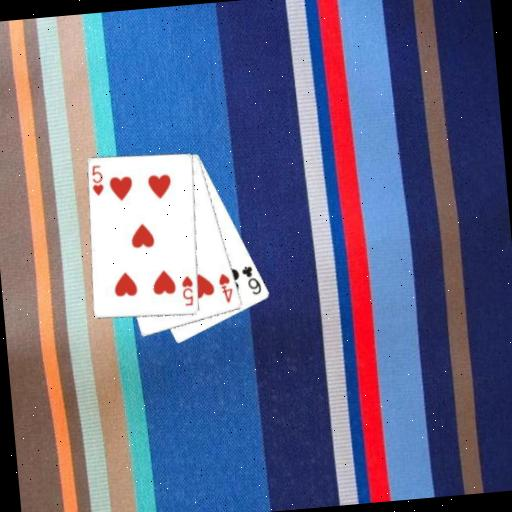4H: (215, 270, 236, 305)
5H: (178, 272, 196, 308), (88, 162, 106, 198)
6C: (238, 262, 264, 297)
